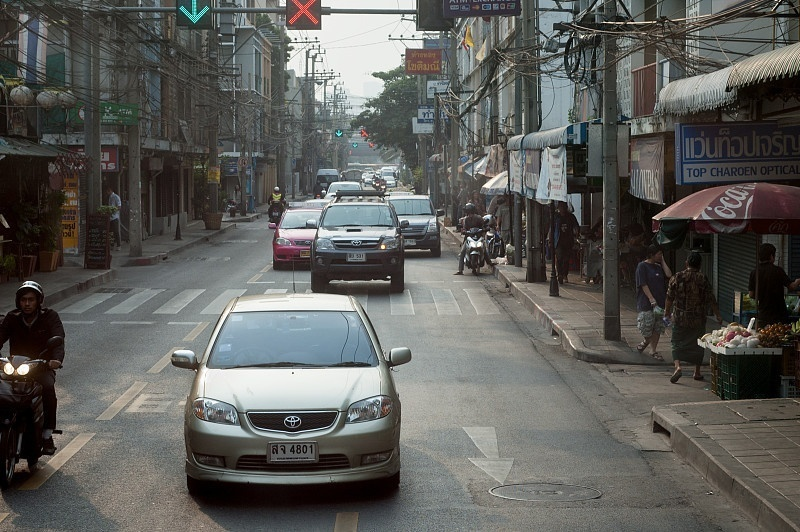non-vehicle: (0, 347, 60, 481), (453, 220, 500, 275)
